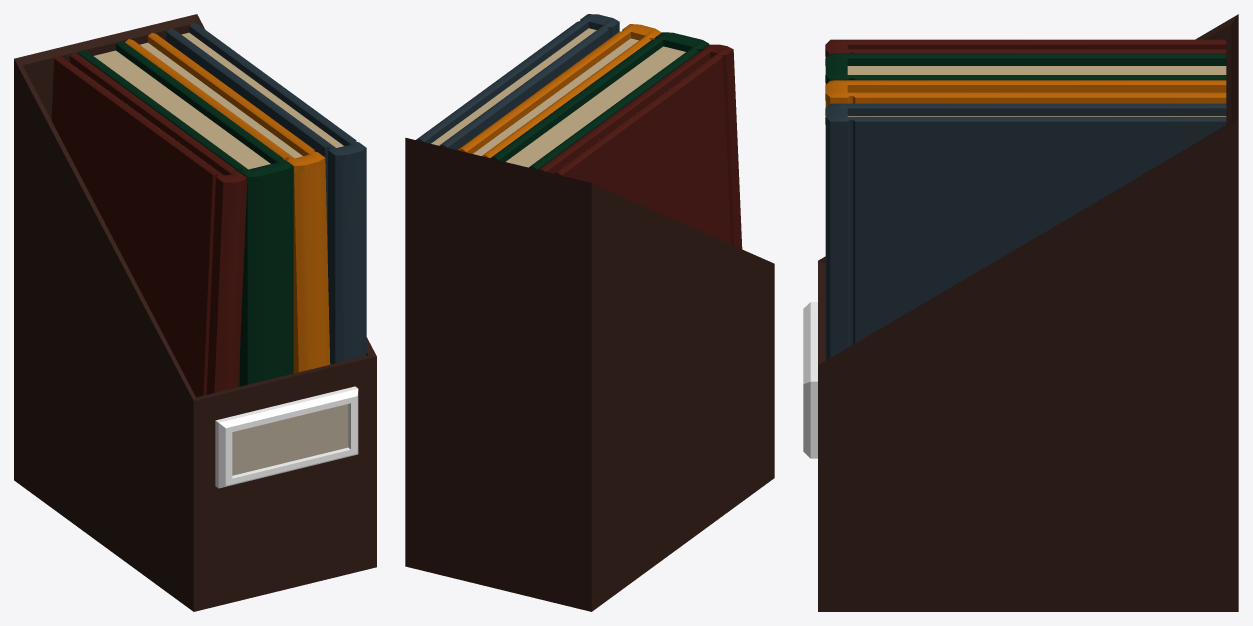
File: Book.fbx
3 views of the same model, side by side, from view 1: azimuth 30°, elevation 25°; view 2: azimuth 150°, elevation 25°; view 3: azimuth 270°, elevation 25° (orthographic). The views are drawn at different scales.
Parts seen in each view (by area): view 1: Box, Book1, Book4, Book2, Book3, Tag; view 2: Box, Book1, Book4, Book2, Book3; view 3: Box, Book2, Book4, Book3, Book1, Tag.
Boxes of the visible parts, x1,y1,x2,y2 form: Box: [14, 14, 376, 611]; Book1: [51, 53, 247, 397]; Book4: [78, 41, 293, 386]; Book2: [166, 23, 366, 364]; Book3: [125, 33, 330, 373]; Tag: [215, 386, 358, 488]; Box: [405, 137, 774, 611]; Book1: [538, 44, 742, 248]; Book4: [490, 32, 709, 169]; Book2: [416, 14, 619, 150]; Book3: [458, 24, 661, 157]; Box: [818, 14, 1238, 611]; Book2: [825, 103, 1226, 360]; Book4: [825, 53, 1226, 84]; Book3: [825, 80, 1226, 107]; Book1: [825, 39, 1226, 57]; Tag: [803, 302, 817, 458].
Size of the model in its own units: 500 by 1100 by 880.
